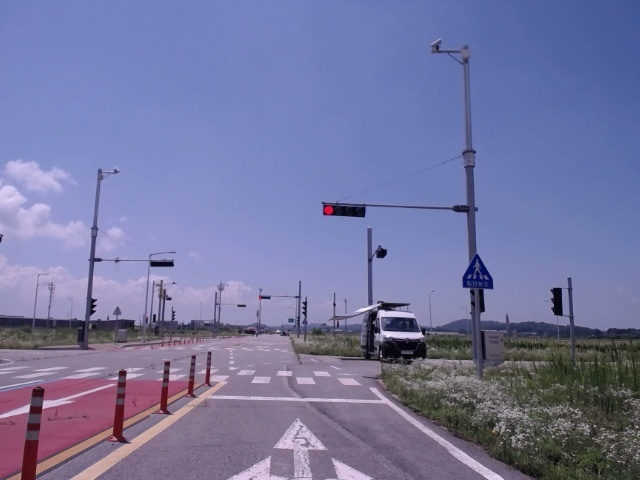red_4: (323, 205, 365, 218)
